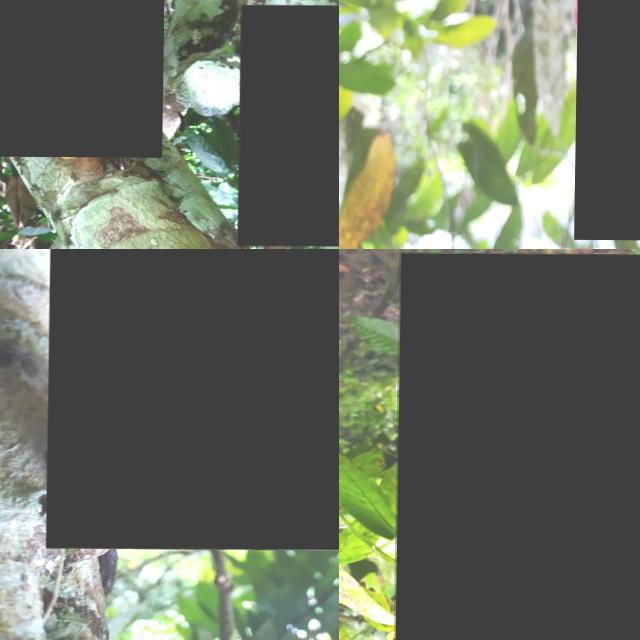Fitoftora: (394, 252, 640, 640), (47, 249, 339, 550), (0, 0, 165, 156), (576, 0, 640, 240)
Sana: (239, 4, 339, 245)
